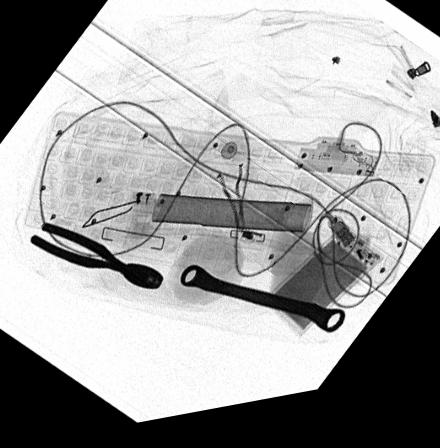Pliers: (28, 222, 166, 295)
Powerbank: (262, 238, 384, 348)
Wrench: (178, 271, 345, 346)
